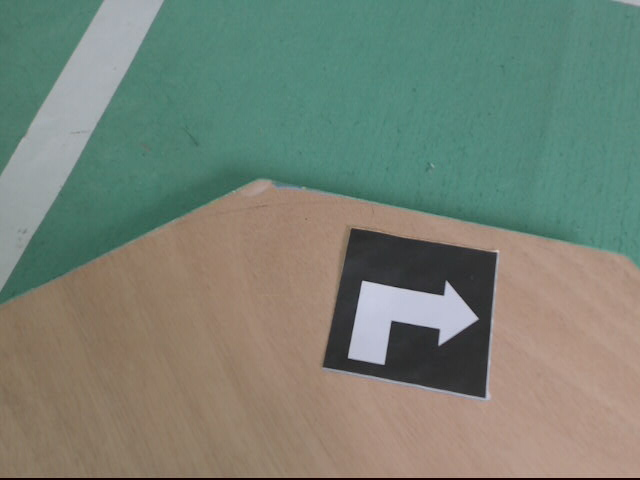right: (320, 227, 503, 400)
